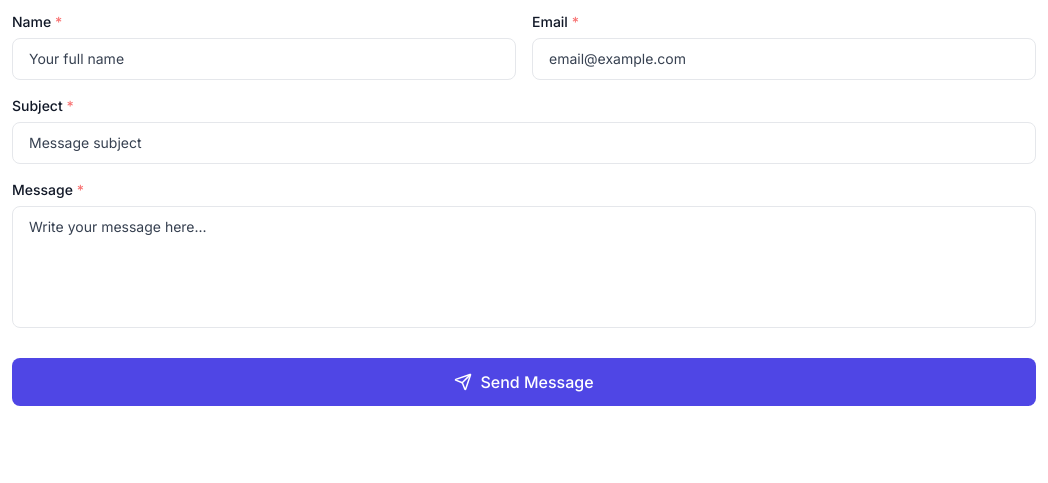
Test: ContactForm — Unit Tests › Validation › shows error when email is empty on submit
Click the button with aria-label "kirim pesan" at (524, 382), box [12,358,1036,406]
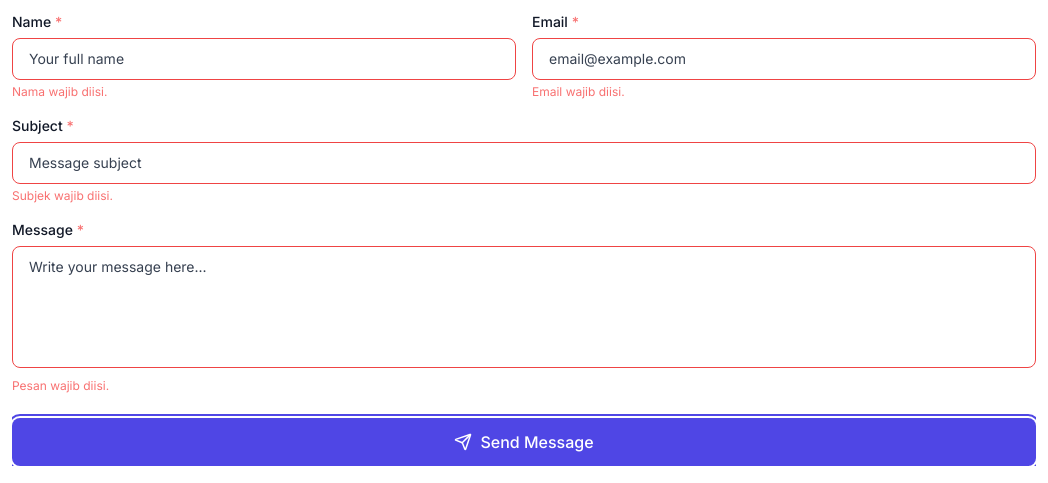
Result: the text "Email wajib diisi." is shown at [532,84,625,99]
